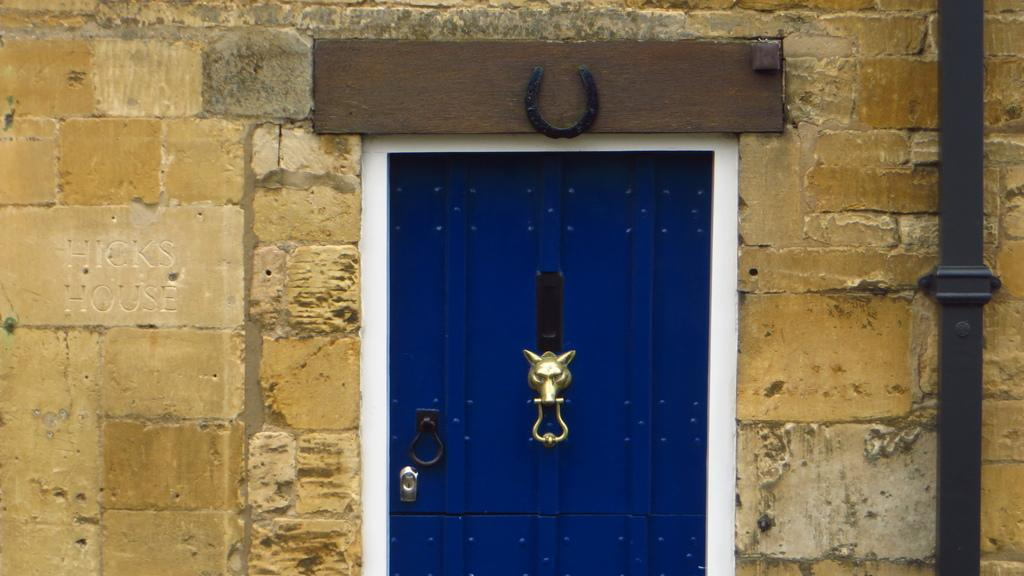handle: (519, 396, 572, 450), (406, 426, 446, 472)
